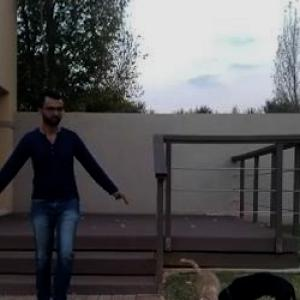land: (2, 98, 128, 299)
